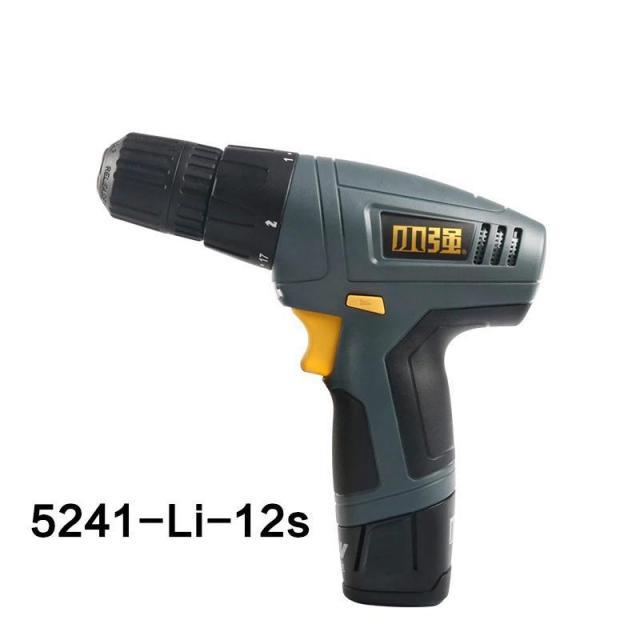drill: (96, 132, 547, 608)
